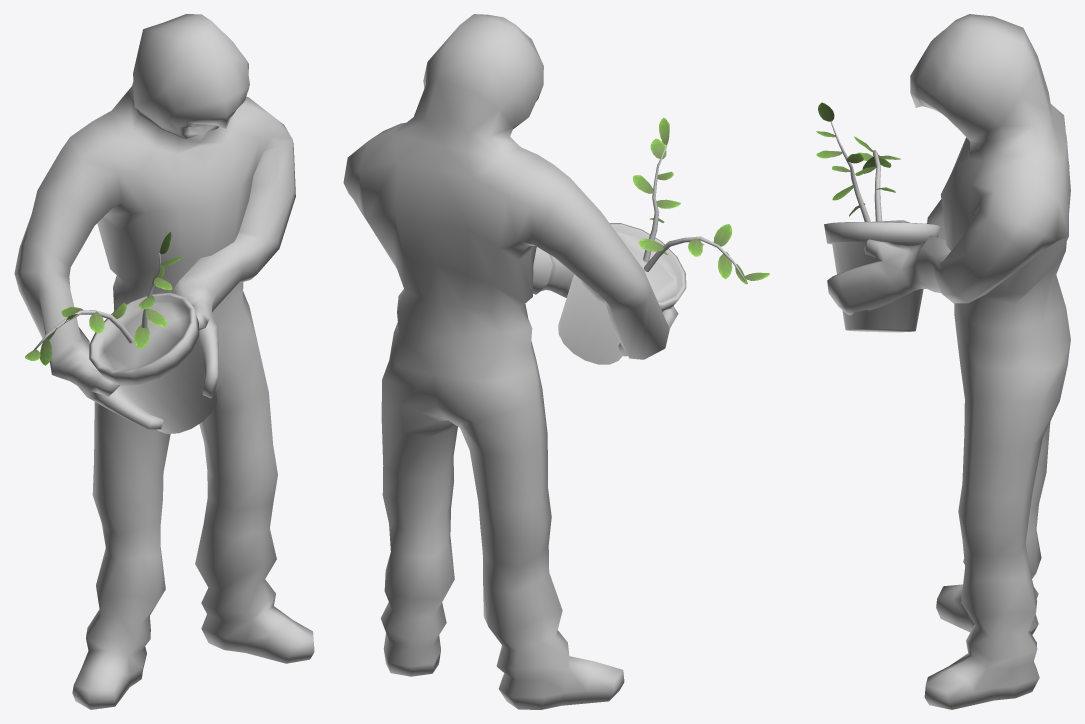
File: Character_Pose_1 1.fbx
The picture shows the model from 3 angles, left to right: view 1: azimuth 30°, elevation 25°; view 2: azimuth 150°, elevation 25°; view 3: azimuth 270°, elevation 25°; orthographic projection.
Parts seen in each view (by area): view 1: Holding Plant, Pot Stem, Pot Leaves; view 2: Holding Plant, Pot Stem, Pot Leaves; view 3: Holding Plant, Pot Stem, Pot Leaves.
Part boxes in pixels (x1,y1,x2,y2): Holding Plant: (14, 14, 314, 709); Pot Stem: (34, 253, 216, 433); Pot Leaves: (25, 232, 183, 365); Holding Plant: (343, 14, 678, 709); Pot Stem: (558, 145, 745, 364); Pot Leaves: (633, 117, 769, 284); Holding Plant: (827, 14, 1070, 709); Pot Stem: (824, 121, 940, 332); Pot Leaves: (816, 102, 900, 216).
Size of the model in its own units: 104 by 184 by 69.08.
